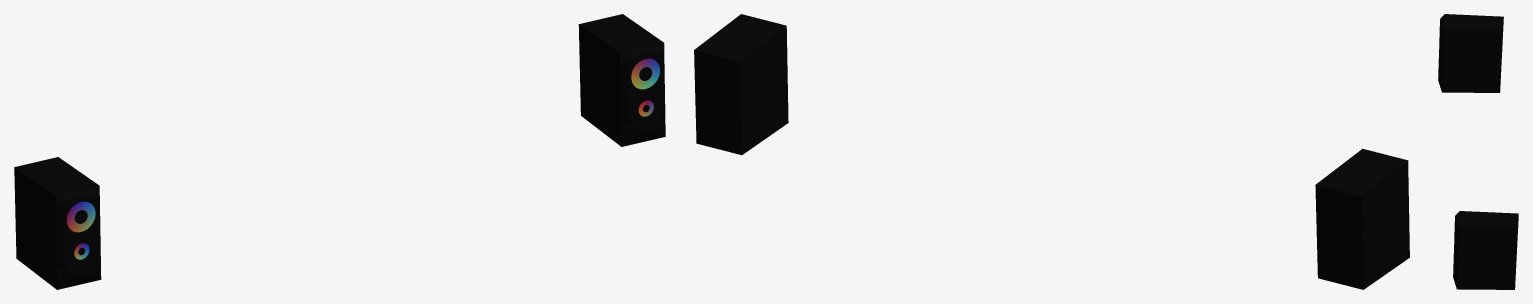
Rendered from speakers-BDTgr29O.glb.
3 renders of one model, left to right at view 1: azimuth 30°, elevation 25°; view 2: azimuth 150°, elevation 25°; view 3: azimuth 270°, elevation 25°, orthographic. The views are drawn at different scales.
Parts seen in each view (by area): view 1: StudyShelf_1334; view 2: StudyShelf_1334; view 3: StudyShelf_1334.
Part boxes in pixels (<box>): StudyShelf_1334: <box>14,14,665,289</box>; StudyShelf_1334: <box>694,14,1409,289</box>; StudyShelf_1334: <box>1438,14,1518,289</box>.
Bounding box in the file's own units: 318 × 48.07 × 51.99.
Materials: 2 (1 with a texture image).
